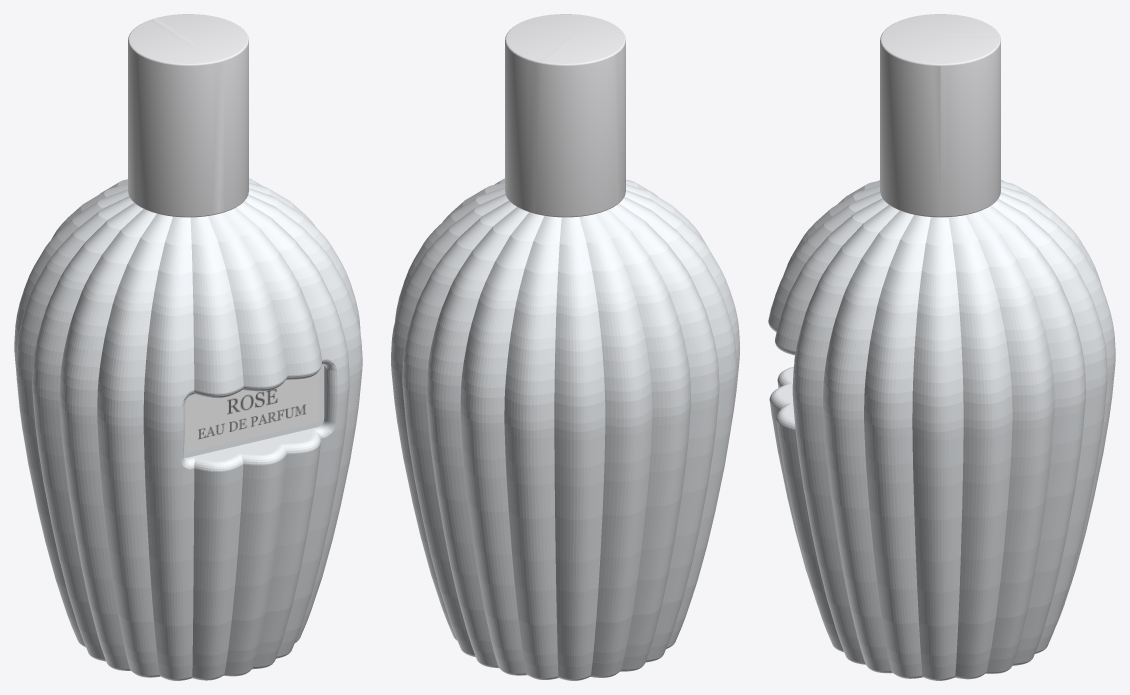
Rendered from roadster_desktop.glb.
3 renders of one model, left to right at view 1: azimuth 30°, elevation 25°; view 2: azimuth 150°, elevation 25°; view 3: azimuth 270°, elevation 25°, orthographic.
Parts seen in each view (by area): view 1: xelle_bottle_glass, xelle_spherical_black_cap, xelle_front_label_test; view 2: xelle_bottle_glass, xelle_spherical_black_cap; view 3: xelle_bottle_glass, xelle_spherical_black_cap.
Boxes of the visible parts, x1,y1,x2,y2 form: xelle_bottle_glass: (14,178,362,680); xelle_spherical_black_cap: (128,14,248,217); xelle_front_label_test: (185,371,319,452); xelle_bottle_glass: (391,178,739,680); xelle_spherical_black_cap: (505,14,625,217); xelle_bottle_glass: (768,179,1115,680); xelle_spherical_black_cap: (880,14,1000,217).
Bounding box in the file's own units: 1.98 × 3.72 × 1.96.
5 materials, 1 textured.
